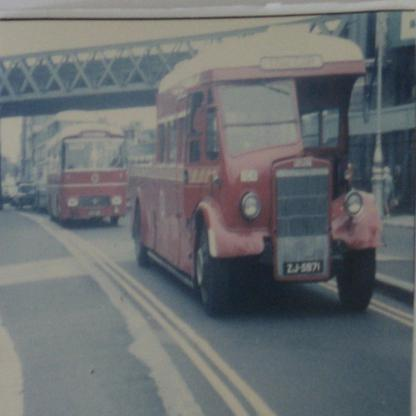Bus: (128, 33, 383, 317), (46, 122, 128, 227), (29, 111, 96, 212)
